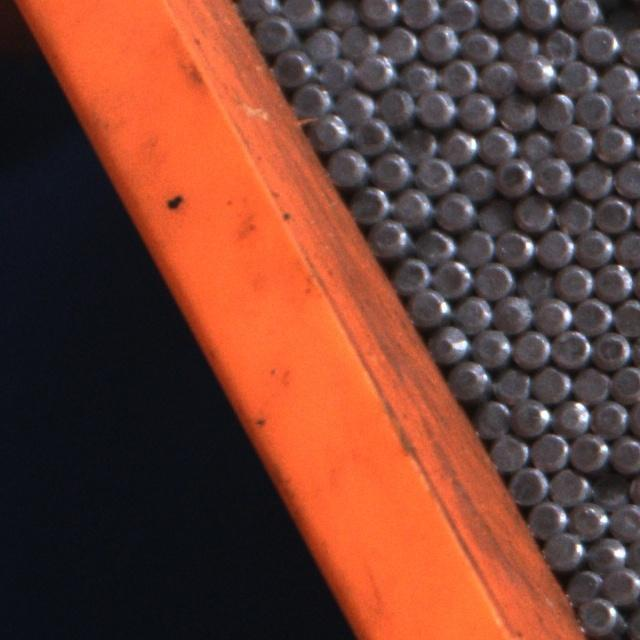tool: (370, 147, 412, 189), (576, 595, 619, 636), (367, 215, 409, 256), (392, 185, 433, 226), (448, 359, 489, 400), (348, 182, 388, 223), (326, 146, 367, 186), (434, 190, 474, 230), (568, 430, 608, 470), (415, 86, 455, 126), (390, 254, 430, 294), (471, 326, 511, 366), (534, 227, 574, 267), (578, 22, 618, 62), (470, 397, 510, 437), (508, 464, 548, 504), (428, 323, 468, 363), (574, 158, 613, 198), (551, 328, 590, 368), (497, 92, 536, 132), (474, 258, 513, 298), (592, 328, 631, 368), (491, 364, 530, 404), (415, 154, 455, 193), (573, 295, 613, 334), (593, 192, 632, 232), (456, 89, 495, 129), (529, 430, 568, 470), (593, 260, 632, 300), (452, 292, 491, 332), (533, 156, 573, 195), (414, 226, 454, 265), (510, 396, 550, 435), (532, 295, 572, 334), (493, 292, 532, 332), (557, 56, 596, 96), (525, 498, 565, 537), (514, 192, 553, 232), (419, 21, 459, 60), (410, 287, 450, 326), (309, 111, 348, 151), (291, 80, 330, 120), (354, 114, 394, 153), (593, 473, 632, 513), (549, 467, 588, 506), (590, 397, 629, 436), (438, 56, 477, 95), (488, 432, 527, 471), (531, 363, 570, 402), (456, 160, 495, 199), (376, 85, 415, 124), (494, 227, 533, 266), (378, 23, 417, 62), (255, 13, 294, 52), (512, 328, 550, 368), (544, 530, 582, 570), (515, 53, 555, 91), (536, 90, 574, 130), (593, 122, 633, 160), (432, 258, 472, 296), (586, 532, 626, 570), (398, 123, 438, 161), (574, 226, 612, 265), (572, 364, 610, 403), (554, 195, 593, 233), (554, 261, 592, 300), (437, 127, 476, 165), (539, 27, 577, 66), (569, 498, 608, 536), (599, 62, 638, 100), (356, 50, 395, 88), (334, 84, 373, 122), (271, 48, 310, 86), (603, 565, 640, 605), (574, 88, 612, 126), (552, 396, 590, 434), (495, 157, 533, 195), (478, 126, 516, 164), (554, 122, 592, 160), (460, 26, 498, 64), (515, 264, 553, 302), (478, 58, 515, 96), (500, 28, 538, 65), (476, 198, 514, 235), (339, 23, 377, 60), (302, 26, 339, 64), (563, 565, 601, 602), (398, 58, 437, 94), (313, 52, 352, 88), (517, 127, 554, 164), (456, 226, 492, 264), (609, 500, 640, 540), (609, 433, 640, 472), (559, 0, 600, 29), (610, 363, 640, 402), (440, 0, 479, 30), (321, 0, 359, 30), (602, 0, 640, 30), (518, 0, 558, 28), (479, 0, 518, 28), (281, 0, 321, 27), (613, 86, 640, 126), (398, 0, 438, 26), (614, 296, 640, 336), (613, 158, 640, 196), (359, 0, 398, 26), (614, 228, 640, 266), (619, 27, 640, 66), (236, 0, 274, 18)
